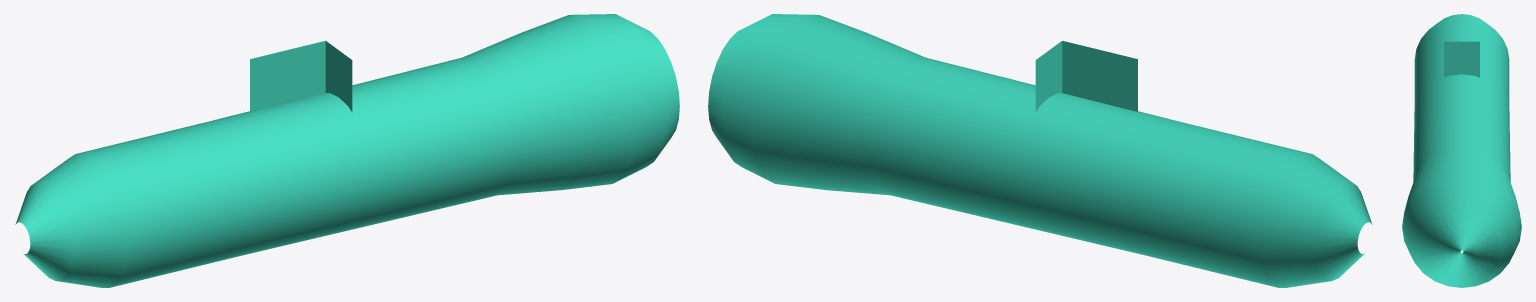
Rendered from phallus-class.gltf.
3 renders of one model, left to right at view 1: azimuth 30°, elevation 25°; view 2: azimuth 150°, elevation 25°; view 3: azimuth 270°, elevation 25°, orthographic. The views are drawn at different scales.
Parts seen in each view (by area): view 1: Phallus-class cartoon novelty submersible; view 2: Phallus-class cartoon novelty submersible; view 3: Phallus-class cartoon novelty submersible.
Part boxes in pixels (x1,y1,x2,y2): Phallus-class cartoon novelty submersible: (15, 14, 679, 287); Phallus-class cartoon novelty submersible: (708, 14, 1372, 287); Phallus-class cartoon novelty submersible: (1402, 14, 1521, 287).
Size of the model in its own units: 3.65 by 1.03 by 0.86.
